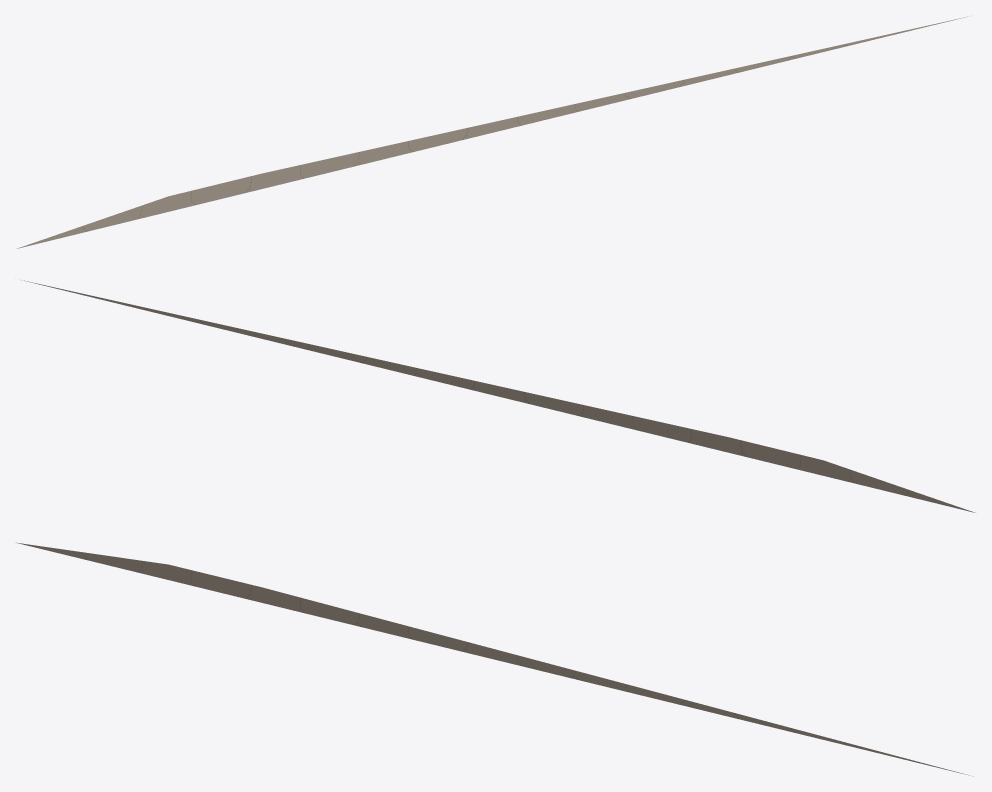
File: kd_stage_135b75_4_159_bounded_piece_3.glb
3 views of the same model, one above another, from view 1: azimuth 30°, elevation 25°; view 2: azimuth 150°, elevation 25°; view 3: azimuth 330°, elevation 25° (orthographic).
Parts seen in each view (by area): view 1: kd_stage_135b75_4_159_bounded_piece_3; view 2: kd_stage_135b75_4_159_bounded_piece_3; view 3: kd_stage_135b75_4_159_bounded_piece_3.
Part boxes in pixels (box(x1,y1,x2,y2)): kd_stage_135b75_4_159_bounded_piece_3: box(16, 16, 970, 248); kd_stage_135b75_4_159_bounded_piece_3: box(21, 280, 975, 512); kd_stage_135b75_4_159_bounded_piece_3: box(16, 542, 972, 776).
Size of the model in its own units: 3.61 by 0.0557 by 0.
1 material, 1 textured.
